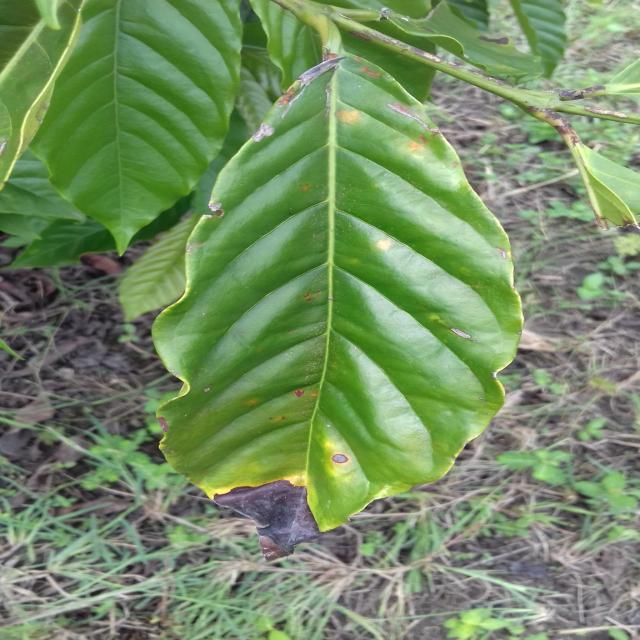Enfermedad-Roya: (153, 58, 523, 535)
